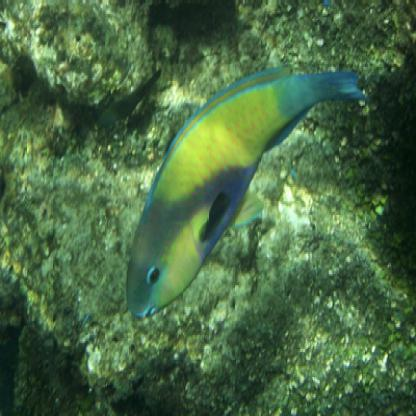parrot: (118, 62, 373, 322)
